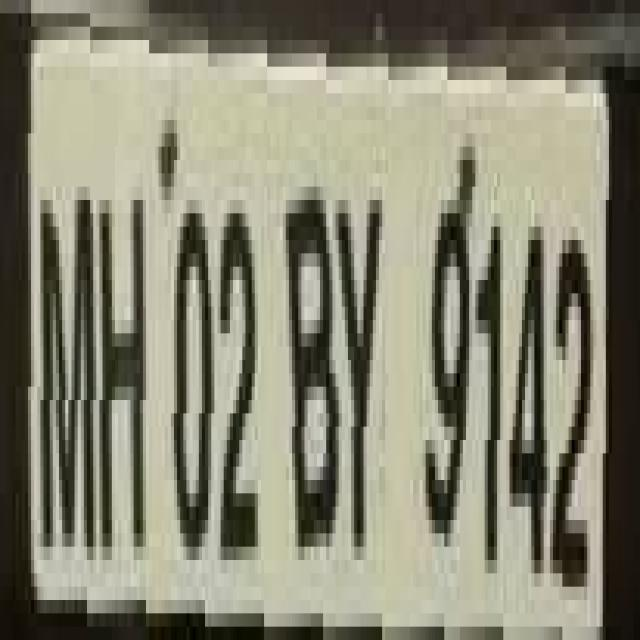plate: (0, 26, 612, 640)
